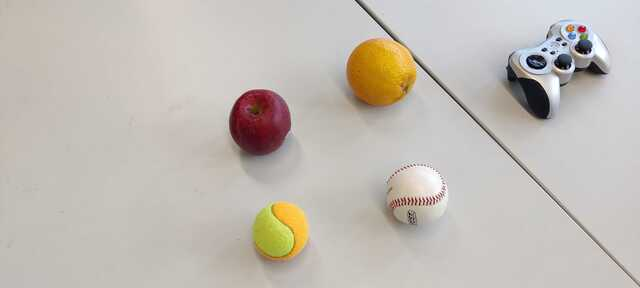013_apple: (228, 89, 293, 155)
017_orange: (346, 37, 417, 106)
055_baseball: (385, 162, 449, 225)
056_tennis_ball: (252, 200, 311, 263)
